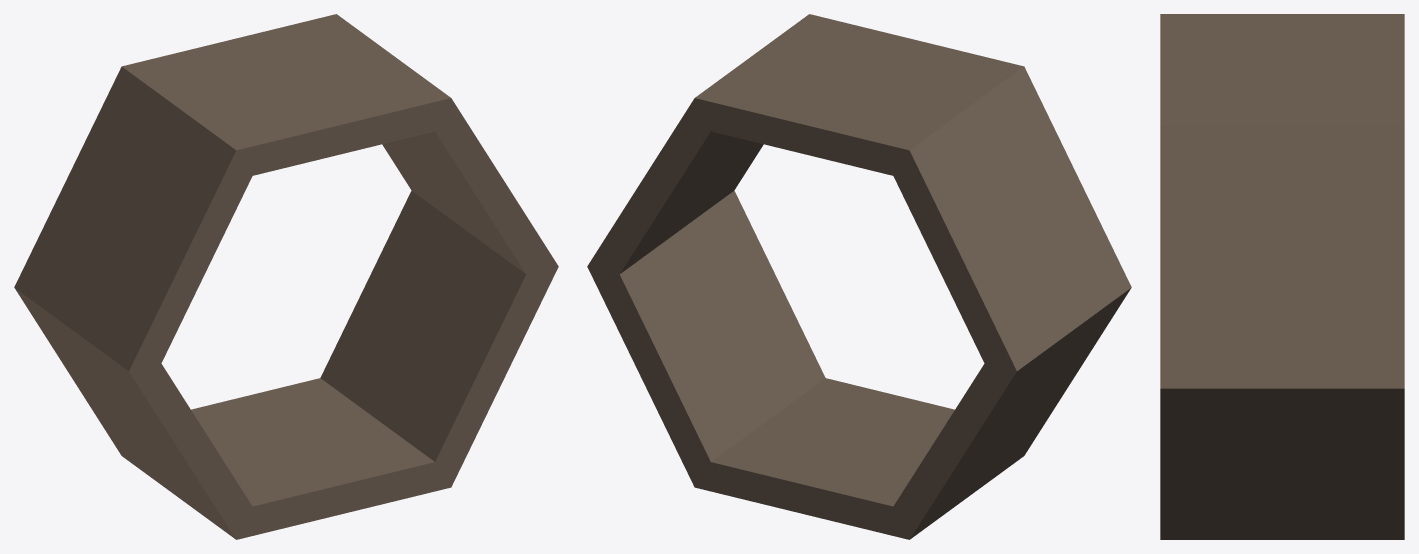
File: Shelf_03.fbx
3 renders of one model, left to right at view 1: azimuth 30°, elevation 25°; view 2: azimuth 150°, elevation 25°; view 3: azimuth 270°, elevation 25°, orthographic. The views are drawn at different scales.
Parts seen in each view (by area): view 1: Shelf_03; view 2: Shelf_03; view 3: Shelf_03.
Part boxes in pixels (x1,y1,x2,y2): Shelf_03: (14,14,558,539); Shelf_03: (587,14,1131,539); Shelf_03: (1160,14,1404,539).
Bounding box in the file's own units: 29.76 × 25.77 × 13.76.
